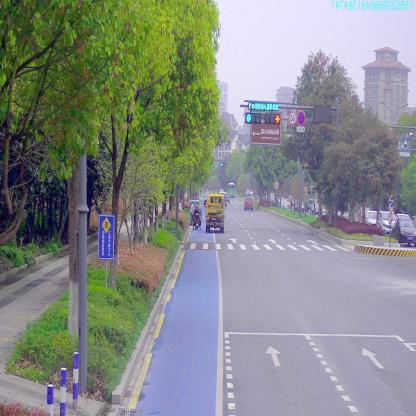traffic-light: (249, 102, 280, 112), (243, 113, 260, 125), (265, 111, 280, 124)
